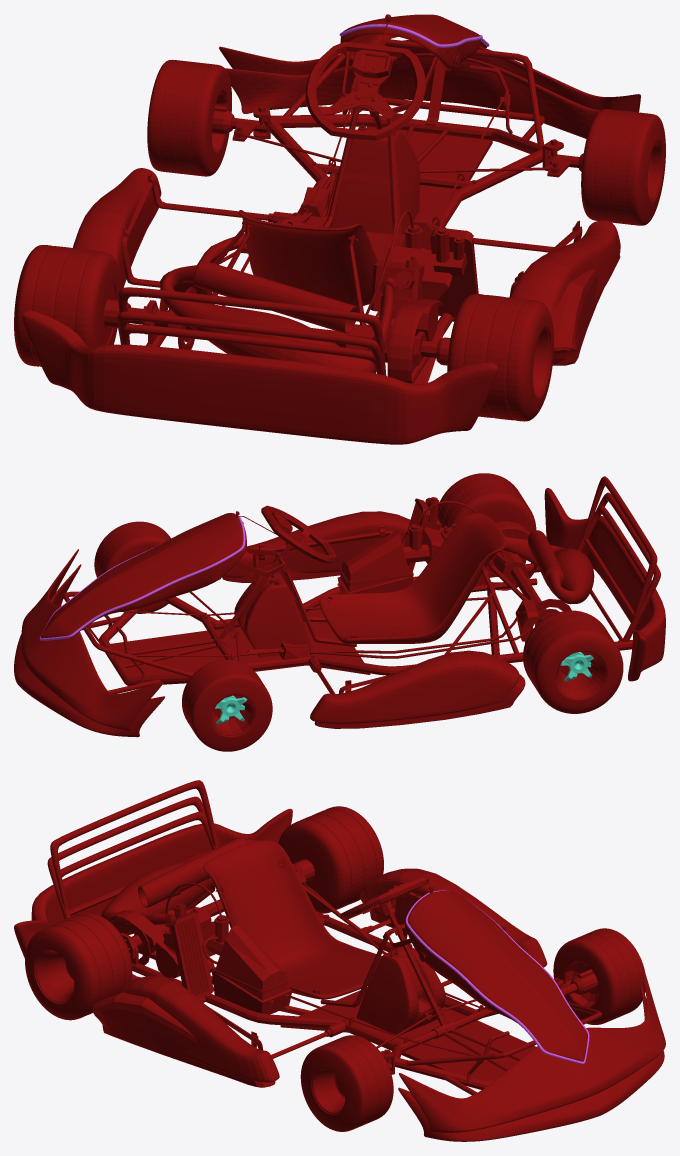
The model's file is KART-FBX.obj.
3 renders of one model, top to bottom at view 1: azimuth 30°, elevation 25°; view 2: azimuth 150°, elevation 25°; view 3: azimuth 270°, elevation 25°, orthographic. The views are drawn at different scales.
Visible parts, largest first — view 1: Object005, Object004, Object003, Object020, Object016, Object012, Object006, Object022, Object010, Object023, Object008, Object011 (+13 smaller); view 2: Object003, Object005, Object006, Object022, Object004, Object020, Object011, Object010, Object008, Object012, Object026, Object016 (+15 smaller); view 3: Object003, Object005, Object006, Object004, Object020, Object026, Object023, Object011, Object008, Object018, Object016, Object012 (+11 smaller).
Part boxes in pixels (x1,y1,x2,y2): Object005: (14, 59, 665, 421); Object004: (22, 310, 497, 444); Object003: (73, 14, 640, 315); Object020: (122, 14, 579, 373); Object016: (225, 53, 600, 138); Object012: (160, 261, 393, 373); Object006: (238, 210, 405, 306); Object022: (210, 40, 582, 325); Object010: (146, 114, 550, 383); Object023: (100, 56, 662, 397); Object008: (330, 127, 419, 233); Object011: (241, 126, 492, 253); Object003: (21, 511, 519, 730); Object005: (94, 473, 623, 751); Object006: (319, 513, 505, 643); Object022: (82, 530, 540, 694); Object004: (544, 488, 665, 681); Object020: (108, 497, 621, 692); Object011: (110, 605, 370, 676); Object010: (99, 563, 632, 685); Object008: (234, 573, 313, 657); Object012: (502, 530, 594, 604); Object026: (337, 498, 429, 593); Object016: (14, 564, 164, 737); Object003: (112, 868, 665, 1132); Object005: (25, 806, 645, 1131); Object006: (203, 840, 381, 999); Object004: (14, 808, 292, 958); Object020: (118, 860, 505, 1079); Object026: (170, 912, 292, 1014); Object023: (35, 845, 397, 1114); Object011: (280, 988, 535, 1080); Object008: (356, 946, 445, 1034); Object018: (92, 992, 275, 1087); Object016: (398, 985, 664, 1141); Object012: (101, 836, 260, 934).
Bounding box in the file's own units: 69.98 × 19.71 × 69.96.
